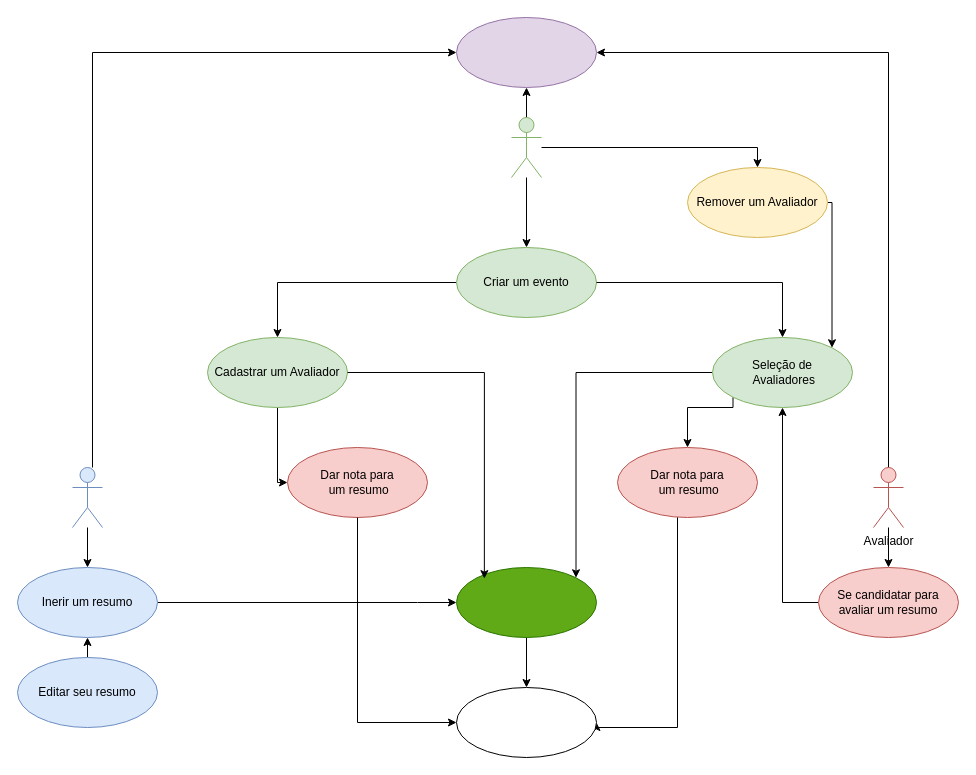
Some shapes in this 976 by 775 pixel diagram are drawn without their labels. Each missing label, with the centre of its shape:
Autor: the point at 87,497
Evento: the point at 526,602
Organizador: the point at 526,147
Resumo: the point at 526,722
Se cadastra: the point at 526,52
